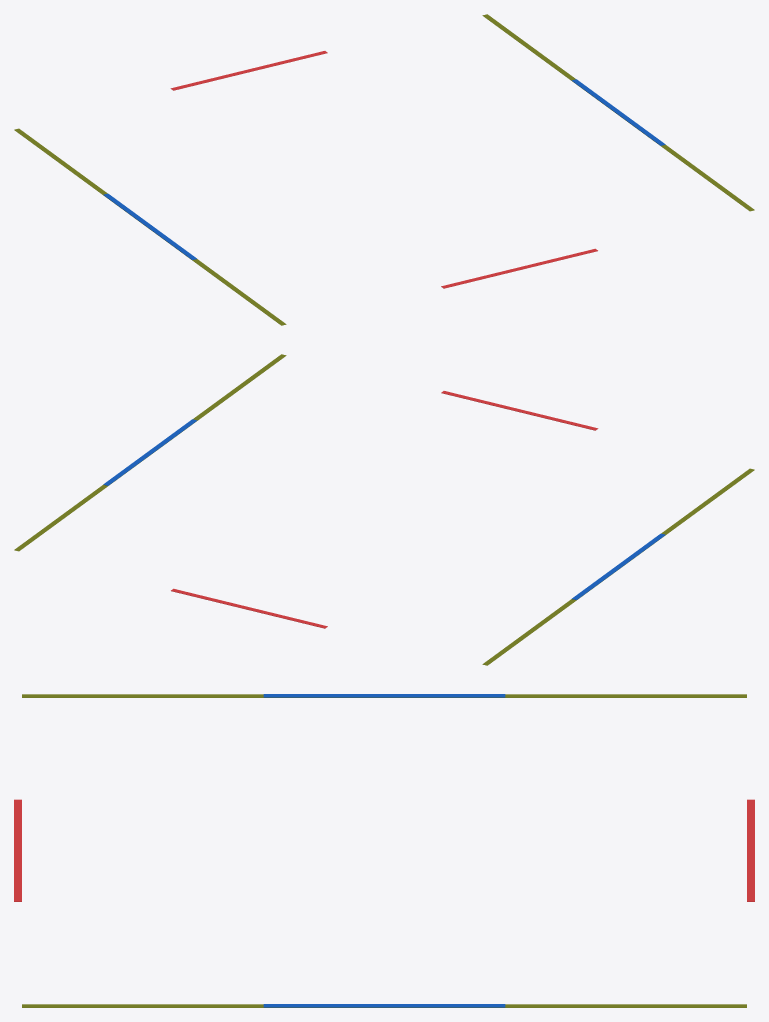
The picture shows the model from 3 angles, top to bottom: view 1: azimuth 30°, elevation 25°; view 2: azimuth 150°, elevation 25°; view 3: azimuth 270°, elevation 25°; orthographic projection. The views are drawn at different scales.
Bounding box in the file's own units: 93.44 × 0.1 × 93.44.
3 materials, 3 textured.
